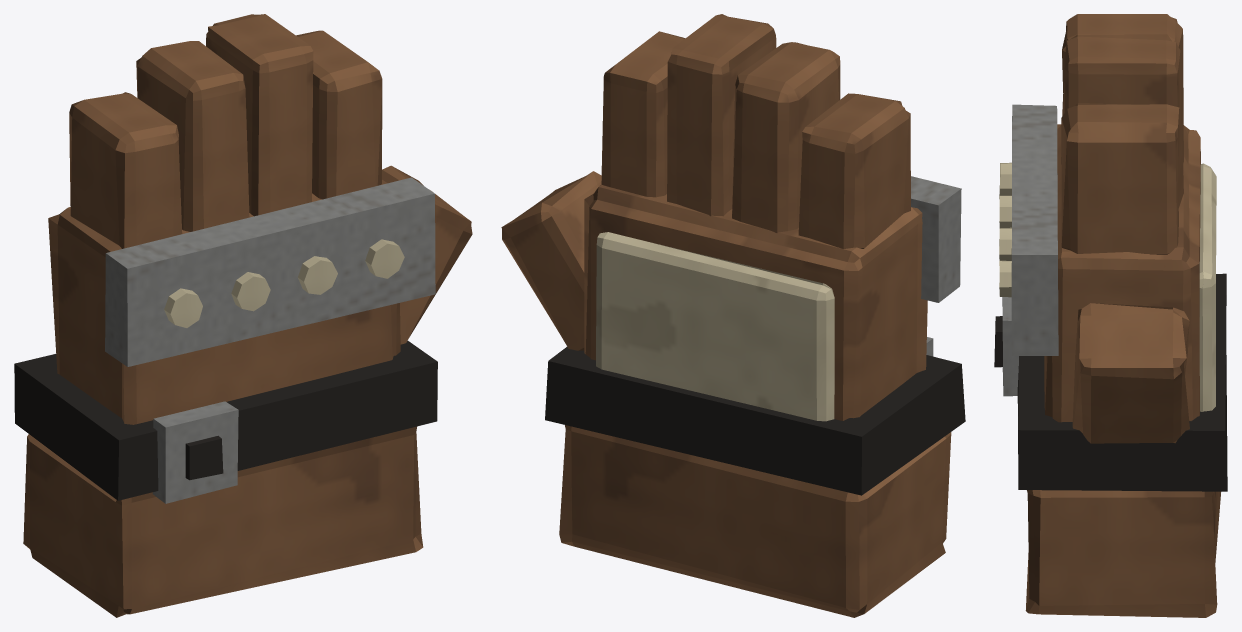
File: reinforced_gloves.glb
The picture shows the model from 3 angles, left to right: view 1: azimuth 30°, elevation 25°; view 2: azimuth 150°, elevation 25°; view 3: azimuth 270°, elevation 25°; orthographic projection.
Visible parts, largest first — view 1: ReinforcedGloves; view 2: ReinforcedGloves; view 3: ReinforcedGloves.
Boxes of the visible parts, left/top/right/bottom form: ReinforcedGloves: left=14, top=14, right=472, bottom=617; ReinforcedGloves: left=501, top=14, right=965, bottom=617; ReinforcedGloves: left=994, top=14, right=1227, bottom=617.
Bounding box in the file's own units: 0.3931 × 0.4955 × 0.2022.
4 materials, 3 textured.
